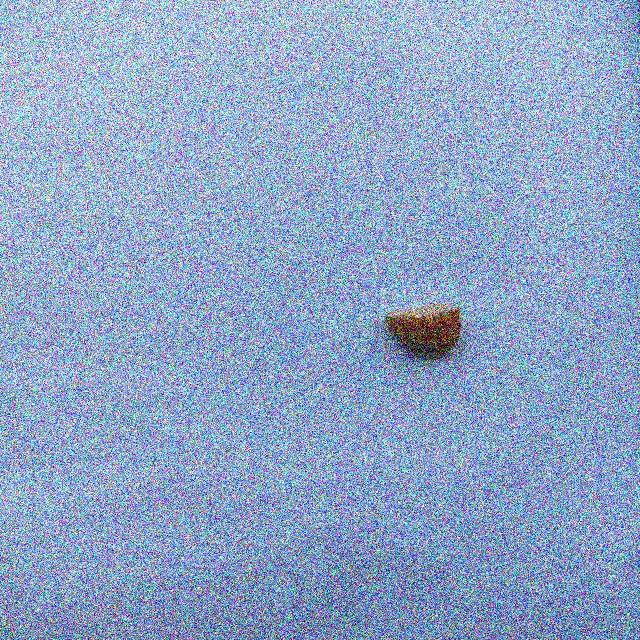grade4: (377, 299, 468, 362)
